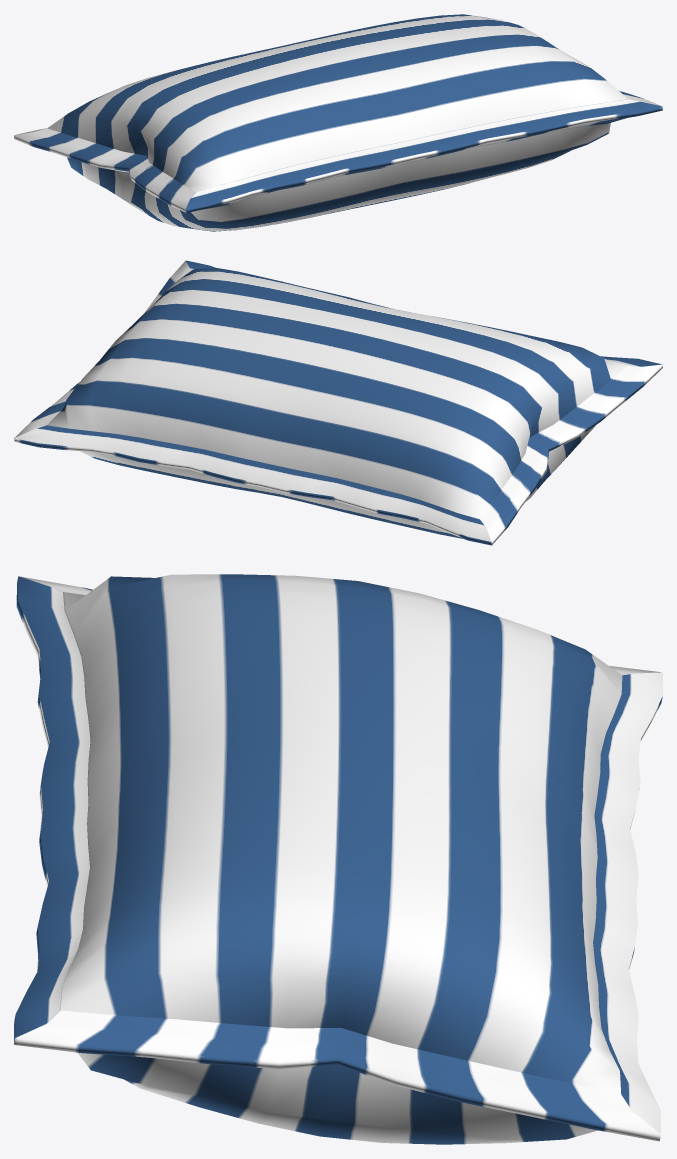
File: pillow.fbx
The picture shows the model from 3 angles, top to bottom: view 1: azimuth 30°, elevation 25°; view 2: azimuth 150°, elevation 25°; view 3: azimuth 270°, elevation 25°; orthographic projection. The views are drawn at different scales.
Visible parts, largest first — view 1: blanket2; view 2: blanket2; view 3: blanket2.
Boxes of the visible parts, x1=… form: blanket2: x1=14, y1=14, x2=662, y2=231; blanket2: x1=14, y1=260, x2=662, y2=545; blanket2: x1=14, y1=574, x2=662, y2=1144.
Bounding box in the file's own units: 0.2578 × 0.0783 × 0.1615.
1 material, 1 textured.
